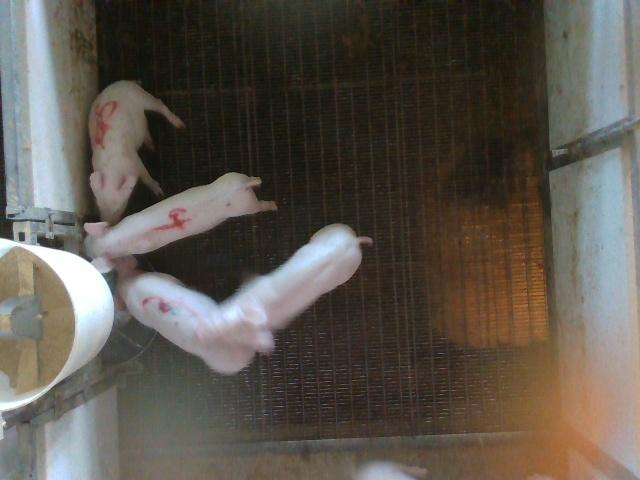pig-3: (114, 256, 254, 373)
pig-4: (86, 172, 276, 272)
pig-5: (89, 80, 184, 224)
